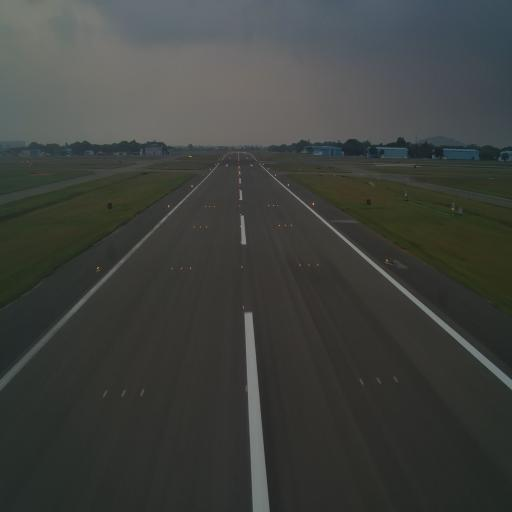on: (390, 373, 399, 384), (375, 374, 383, 386), (102, 387, 108, 402), (243, 381, 249, 396), (121, 386, 127, 400), (139, 386, 145, 399), (358, 375, 364, 388), (298, 260, 304, 270), (96, 264, 100, 272), (242, 302, 246, 310), (316, 262, 320, 270), (385, 257, 389, 264), (170, 266, 174, 272), (179, 266, 183, 272), (240, 263, 244, 269), (189, 266, 192, 272), (308, 261, 310, 268)
